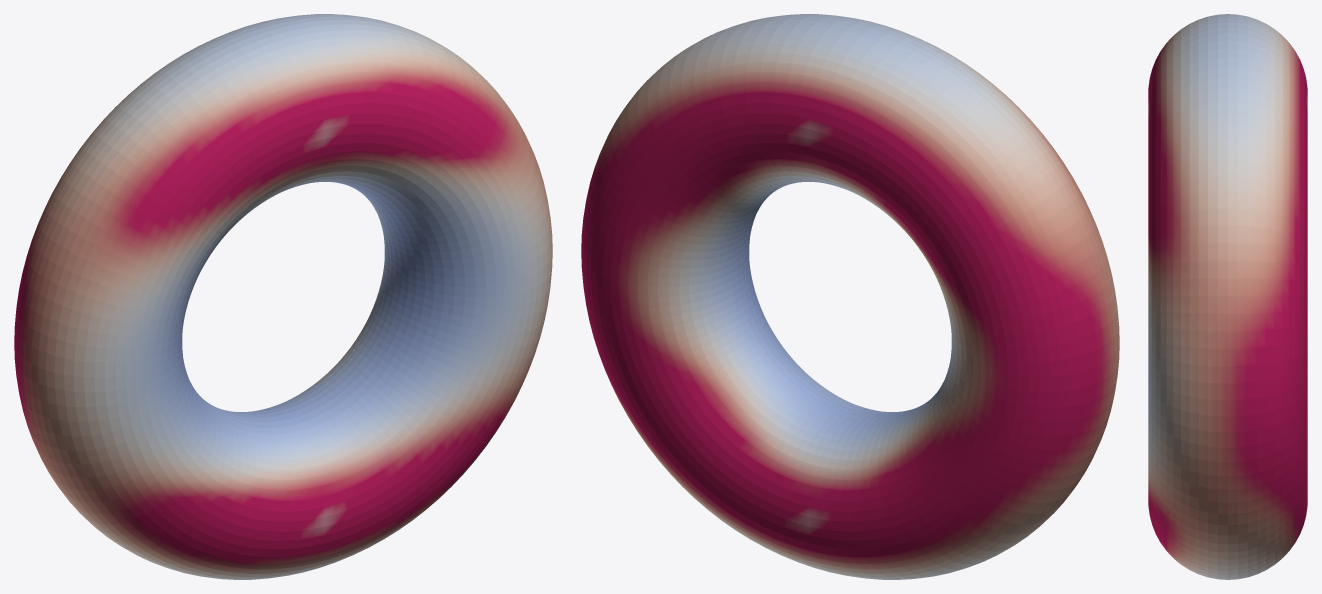
The picture shows the model from 3 angles, left to right: view 1: azimuth 30°, elevation 25°; view 2: azimuth 150°, elevation 25°; view 3: azimuth 270°, elevation 25°; orthographic projection. The views are drawn at different scales.
Parts seen in each view (by area): view 1: world; view 2: world; view 3: world.
Boxes of the visible parts, x1,y1,x2,y2 form: world: (14, 14, 552, 579); world: (581, 14, 1119, 579); world: (1148, 14, 1307, 579).
Size of the model in its own units: 25.07 by 25.07 by 7.05.
